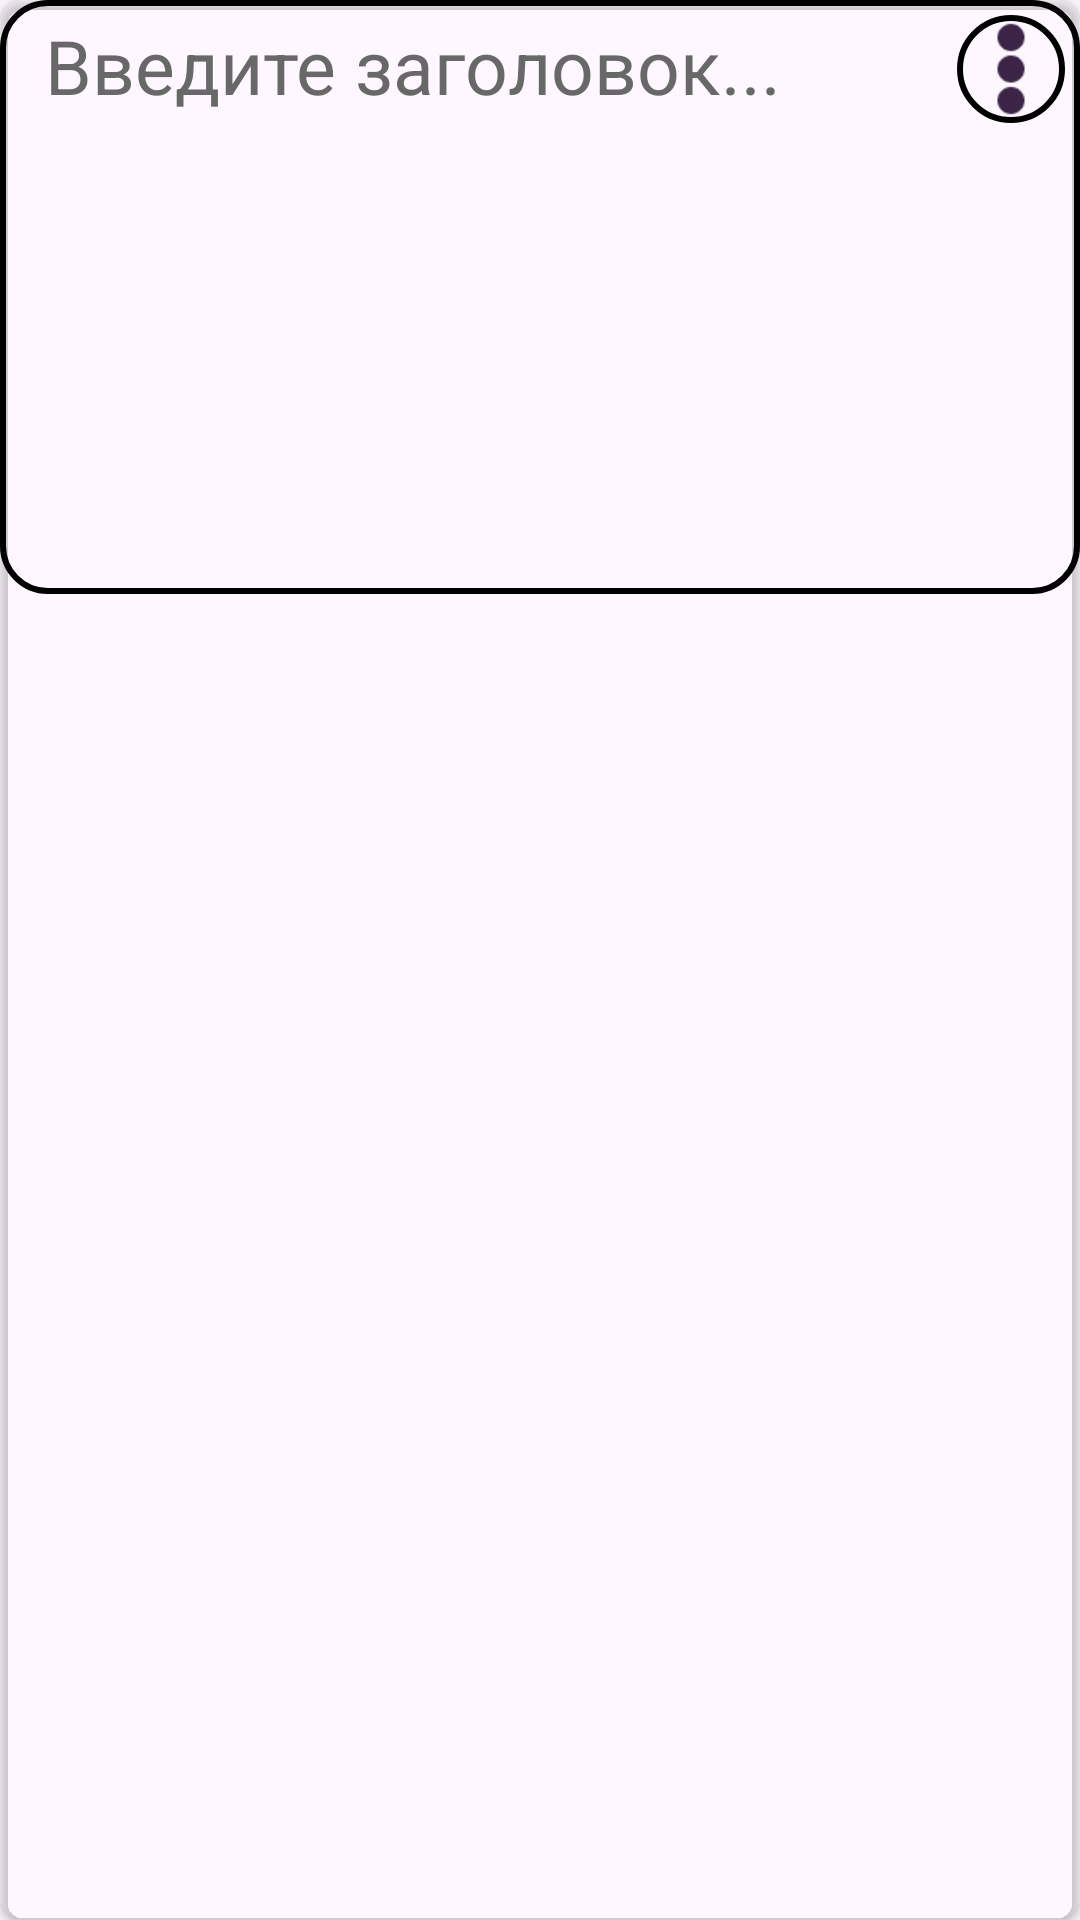

Point at icon controls on the screen. Image size 1080×1920, points as (x=x, y=y).
menu: (x=1011, y=69)
